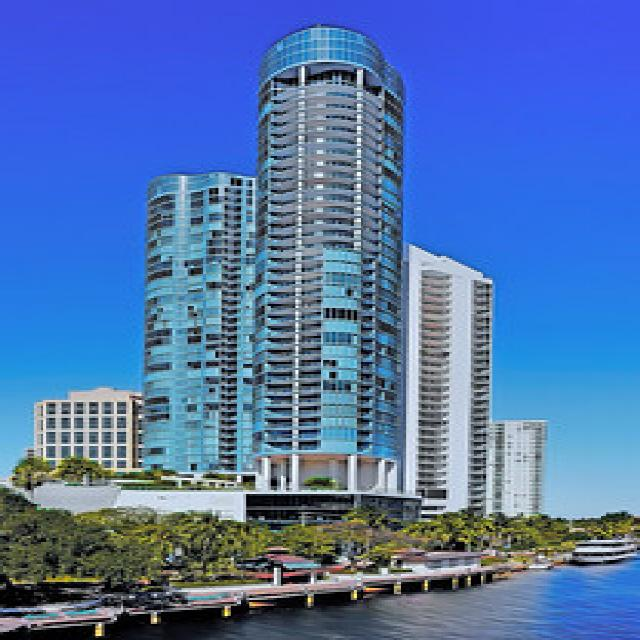Normal_building: (134, 13, 408, 515), (412, 243, 496, 531)
